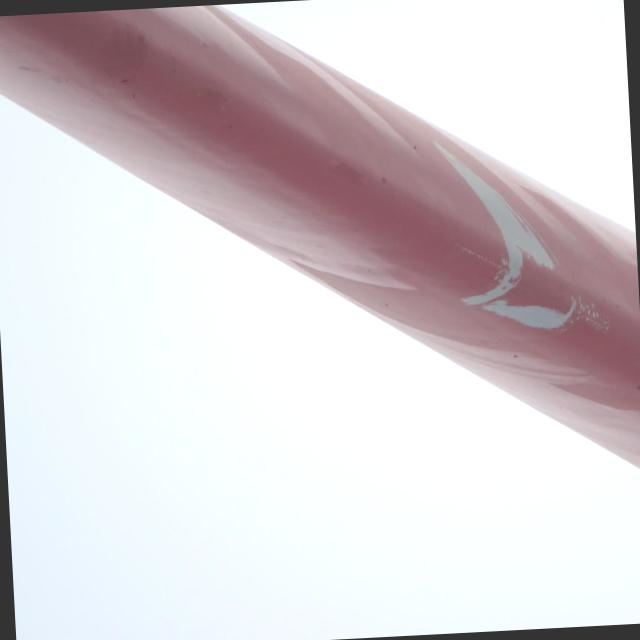surface_peeling: (438, 131, 582, 340)
